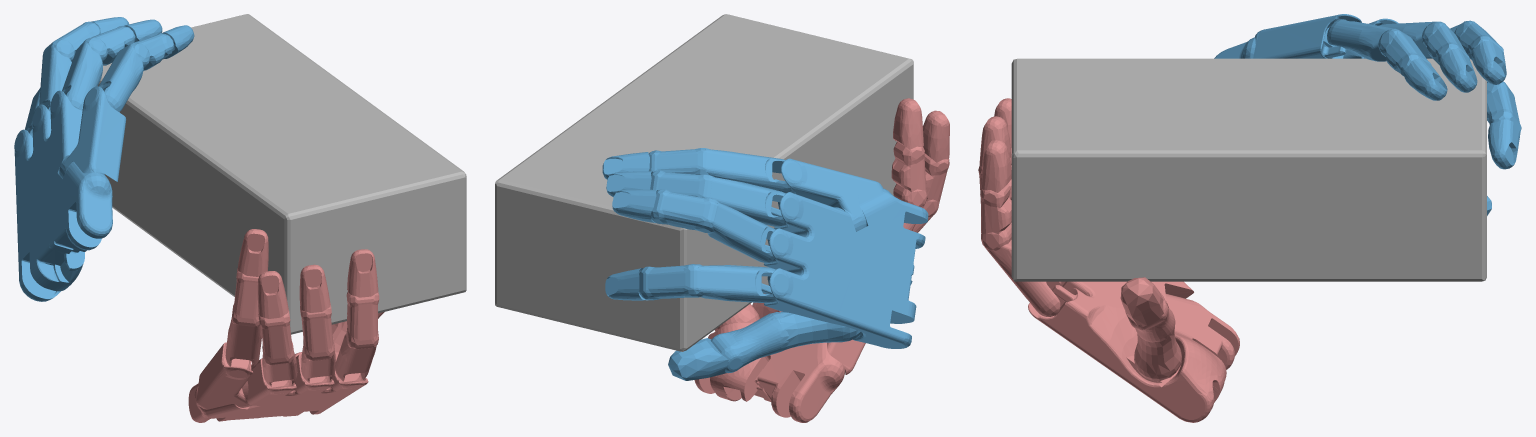
The model's file is MilkCarton.glb.
3 views of the same model, side by side, from view 1: azimuth 30°, elevation 25°; view 2: azimuth 150°, elevation 25°; view 3: azimuth 270°, elevation 25° (orthographic). The views are drawn at different scales.
Visible parts, largest first — view 1: geom_0, geom_1, geom_2; view 2: geom_0, geom_1, geom_2; view 3: geom_0, geom_2, geom_1.
Boxes of the visible parts, x1,y1,x2,y2 form: geom_0: (98,14,466,334); geom_1: (14,17,194,301); geom_2: (188,229,384,422); geom_0: (495,14,913,351); geom_1: (602,148,928,380); geom_2: (694,98,949,422); geom_0: (1011,58,1486,281); geom_2: (978,98,1239,422); geom_1: (1214,14,1521,215).
Bounding box in the file's own units: 0.229 × 0.2066 × 0.2936.
